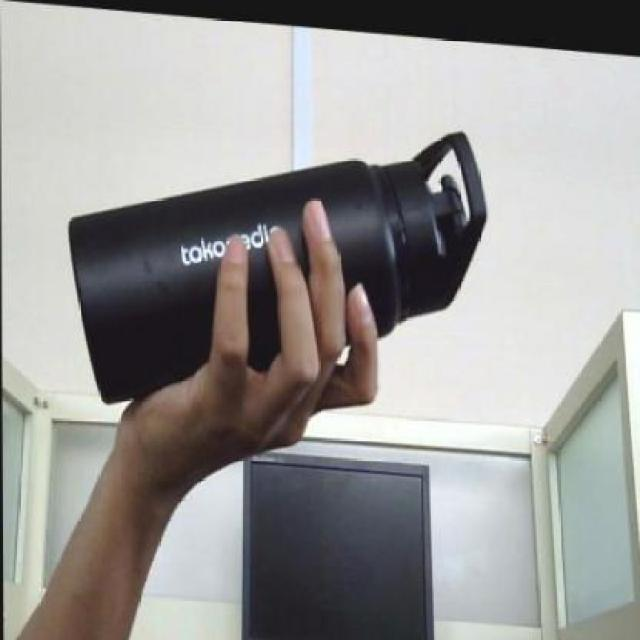Metal: (63, 145, 401, 411)
